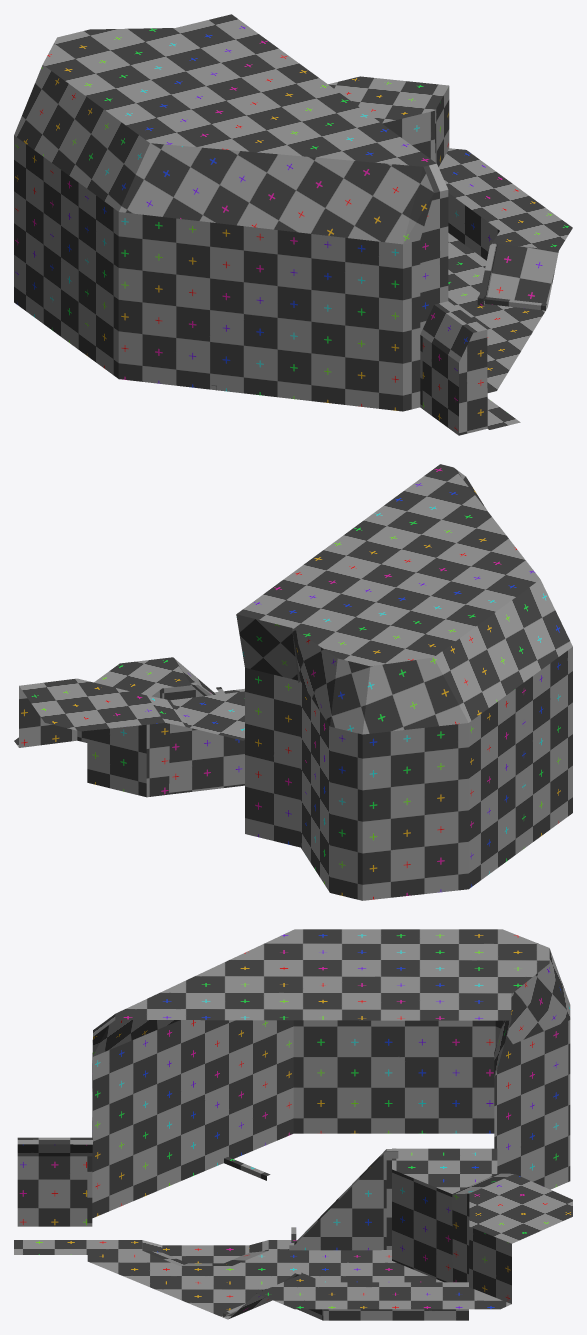
Rendered from Castle_Lobby.glb.
3 views of the same model, one above another, from view 1: azimuth 30°, elevation 25°; view 2: azimuth 150°, elevation 25°; view 3: azimuth 270°, elevation 25° (orthographic). The views are drawn at different scales.
Visible parts, largest first — view 1: Object, Plane.001; view 2: Object, Plane.001; view 3: Object, Plane.001, Cube.020.
Part boxes in pixels (<box>): Object: <box>14,14,487,435</box>; Plane.001: <box>328,76,572,429</box>; Object: <box>236,464,572,900</box>; Plane.001: <box>14,657,244,797</box>; Object: <box>17,929,570,1226</box>; Plane.001: <box>14,1148,572,1320</box>; Cube.020: <box>289,1149,398,1250</box>.
Bounding box in the file's own units: 190 × 93.38 × 210.
Materials: 7 (7 with a texture image).
